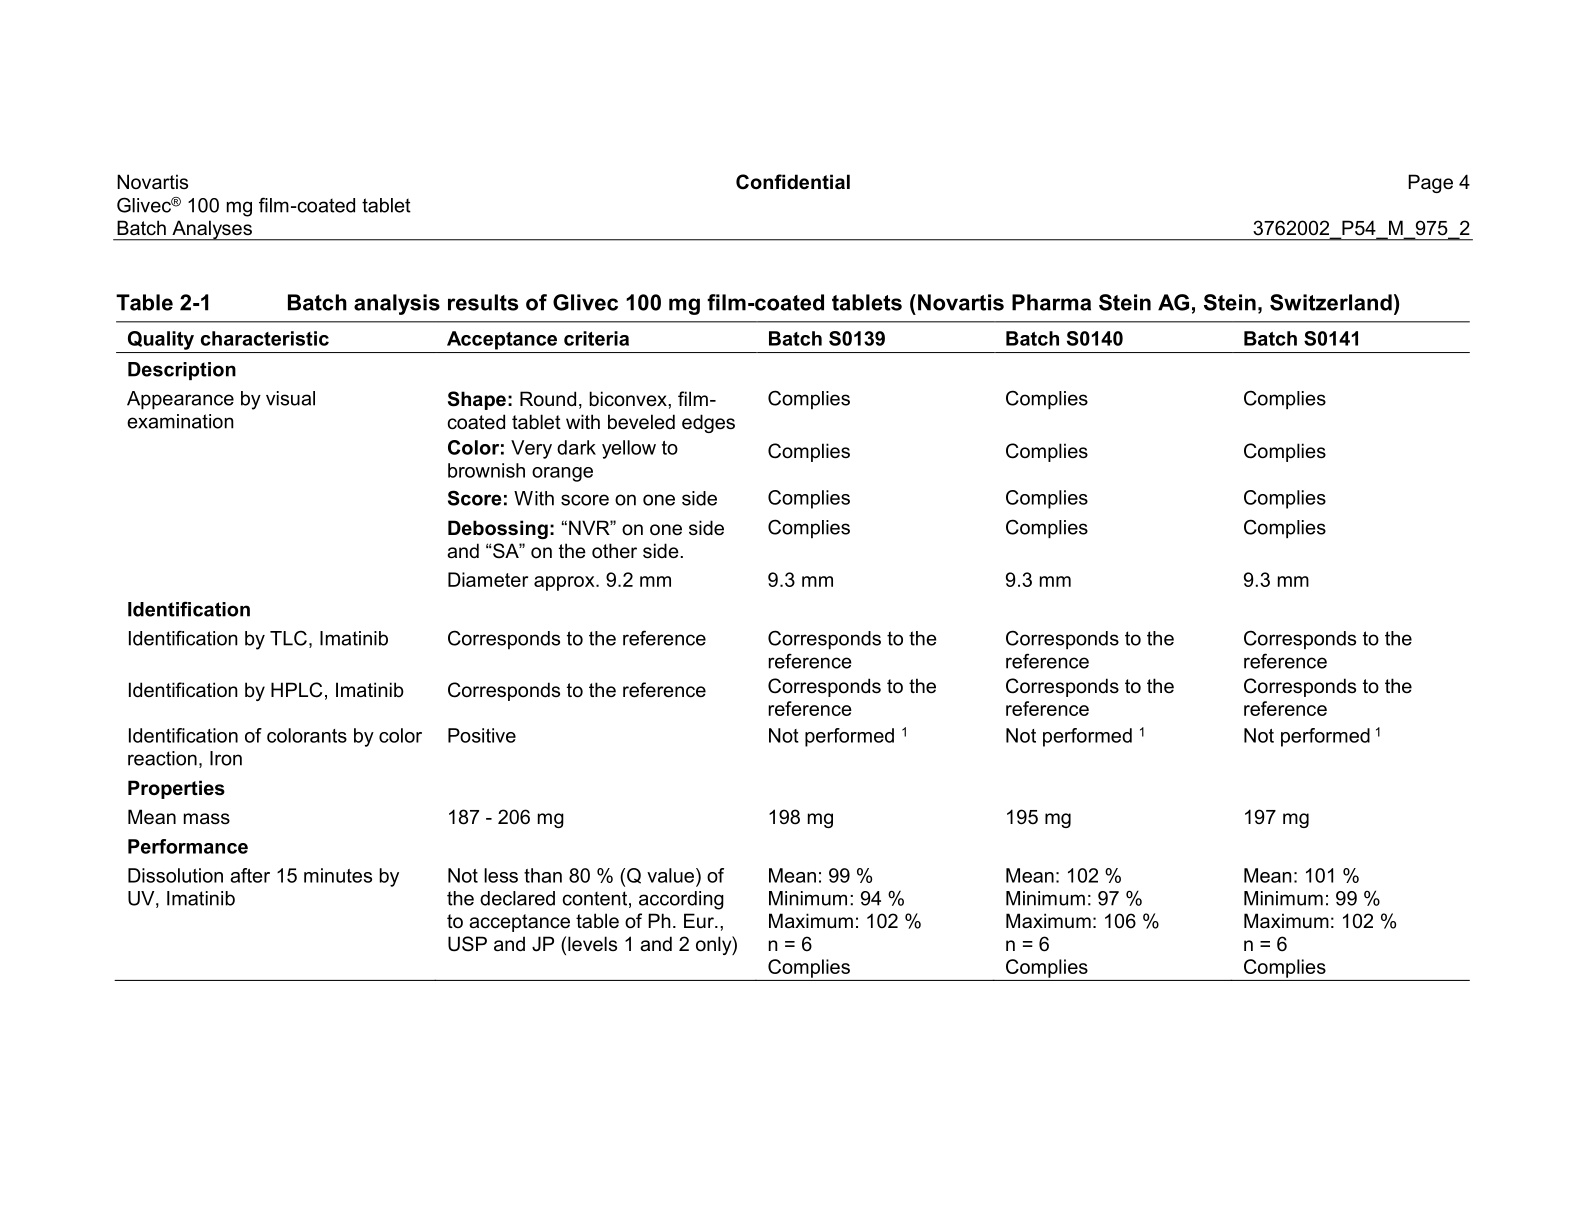partial_lined: (111, 319, 1473, 984)
